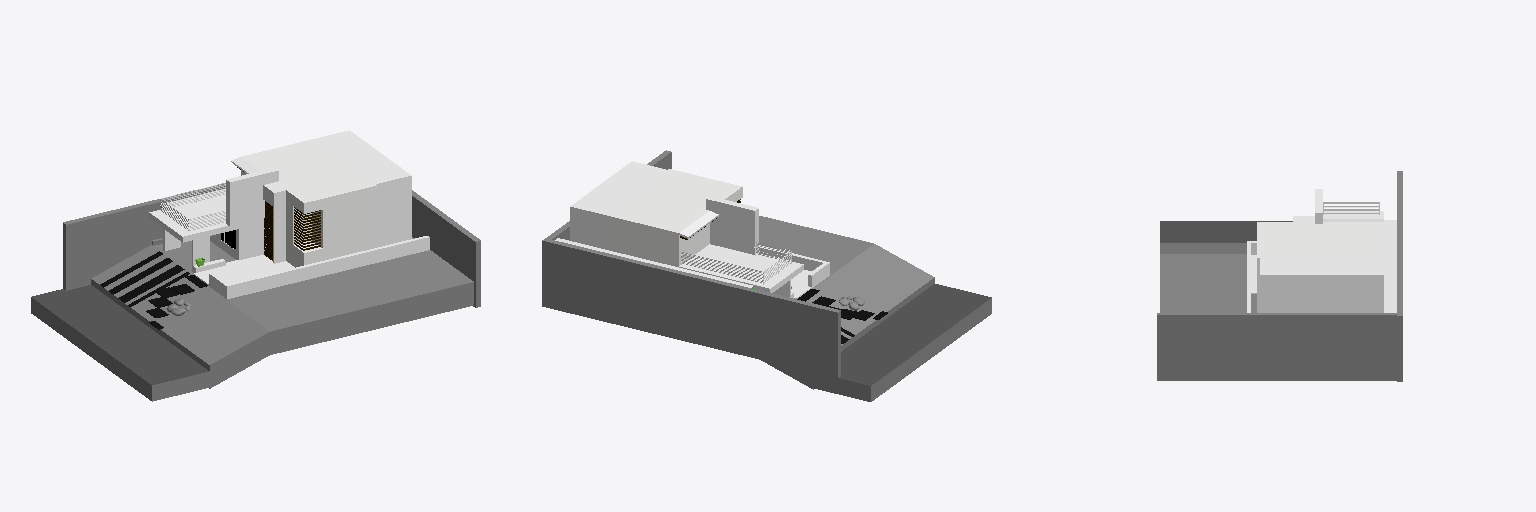
The model's file is house_origin.obj.
3 views of the same model, side by side, from view 1: azimuth 30°, elevation 25°; view 2: azimuth 150°, elevation 25°; view 3: azimuth 270°, elevation 25° (orthographic).
Visible parts, largest first — view 1: Box106, Box08, Box141, Box09, Box166, Box158, Box07, Box04, Box05, Box142, Box06; view 2: Box141, Box106, Box08, Box09, Box07, Box04, Box05, Box10, Box166; view 3: Box166, Box106, Box09, Box08, Box141, Box10.
Part boxes in pixels (bbox=[...]): Box106: bbox=[31, 237, 473, 401]; Box08: bbox=[241, 139, 376, 267]; Box141: bbox=[63, 183, 225, 290]; Box09: bbox=[315, 130, 411, 247]; Box166: bbox=[412, 190, 480, 307]; Box158: bbox=[230, 236, 429, 297]; Box07: bbox=[226, 167, 278, 226]; Box04: bbox=[149, 199, 238, 242]; Box05: bbox=[207, 194, 269, 259]; Box142: bbox=[194, 255, 294, 285]; Box06: bbox=[273, 187, 292, 263]; Box141: bbox=[542, 238, 840, 378]; Box106: bbox=[759, 216, 991, 401]; Box08: bbox=[606, 169, 742, 266]; Box09: bbox=[570, 161, 669, 249]; Box07: bbox=[706, 196, 758, 254]; Box04: bbox=[714, 253, 803, 292]; Box05: bbox=[678, 244, 743, 275]; Box10: bbox=[555, 238, 752, 287]; Box166: bbox=[547, 150, 671, 240]; Box166: bbox=[1157, 313, 1398, 380]; Box106: bbox=[1160, 221, 1292, 312]; Box09: bbox=[1260, 256, 1383, 312]; Box08: bbox=[1257, 222, 1383, 312]; Box141: bbox=[1397, 171, 1402, 381]; Box10: bbox=[1384, 220, 1396, 312].
Size of the model in its own units: 3073 by 1126 by 2001.